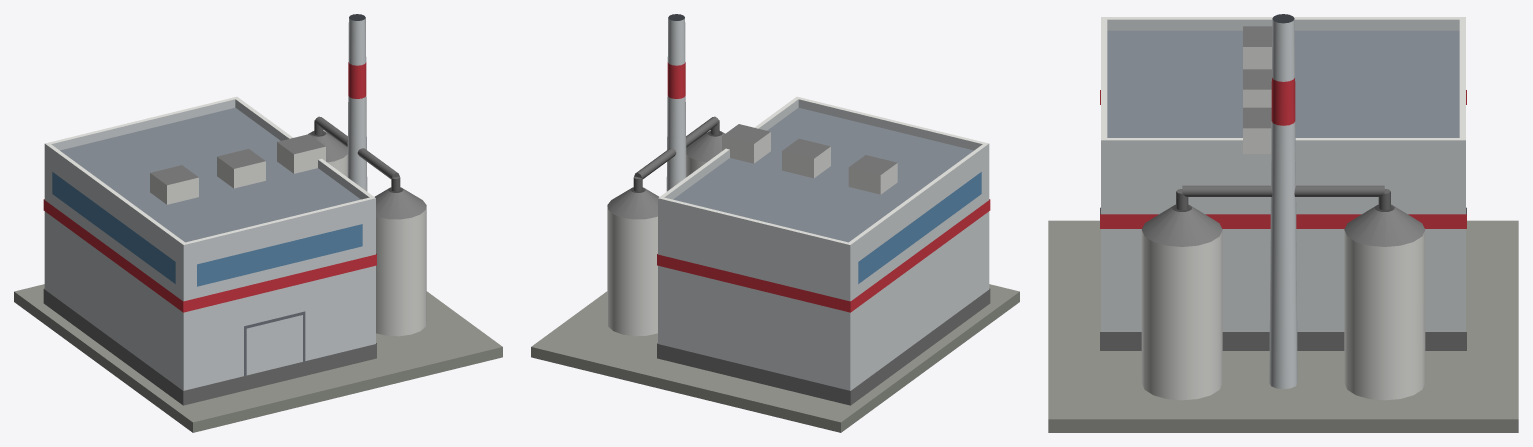
Rendered from mashup-paint-top-prebuilt.fbx.
The picture shows the model from 3 angles, left to right: view 1: azimuth 30°, elevation 25°; view 2: azimuth 150°, elevation 25°; view 3: azimuth 270°, elevation 25°; orthographic projection. The views are drawn at different scales.
Visible parts, largest first — view 1: a1029/0/mashup-paint-top-prebuilt; view 2: a1029/0/mashup-paint-top-prebuilt; view 3: a1029/0/mashup-paint-top-prebuilt.
Part boxes in pixels (box(x1,y1,x2,y2)): a1029/0/mashup-paint-top-prebuilt: box(14, 14, 502, 432); a1029/0/mashup-paint-top-prebuilt: box(531, 14, 1019, 432); a1029/0/mashup-paint-top-prebuilt: box(1048, 14, 1518, 432).
Bounding box in the file's own units: 23.2 × 20.6 × 23.2.
